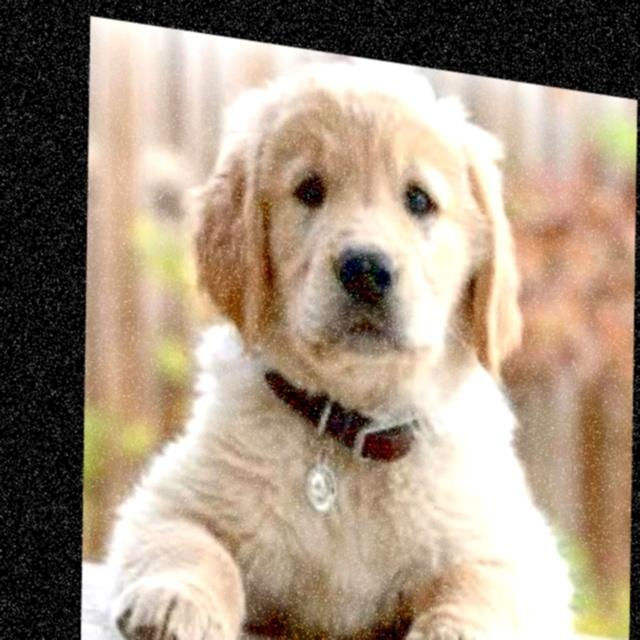dog: (183, 31, 534, 484)
